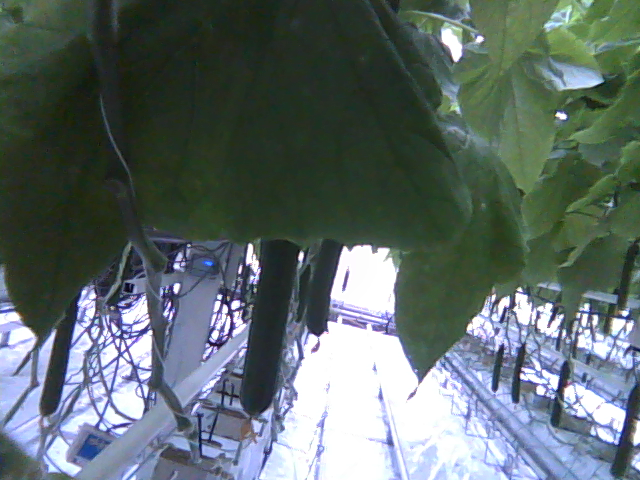concombre: (233, 240, 306, 421)
